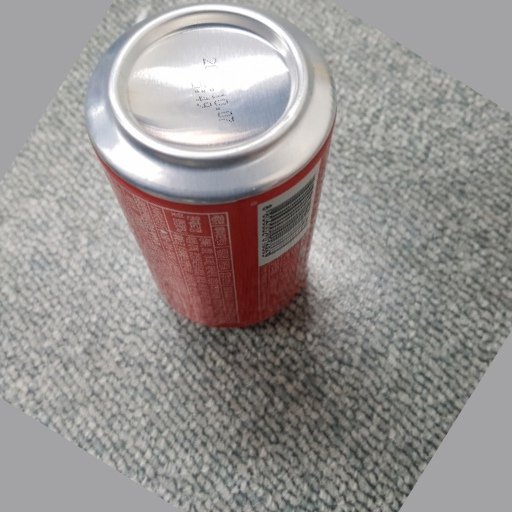Metal_0: (87, 4, 340, 326)
